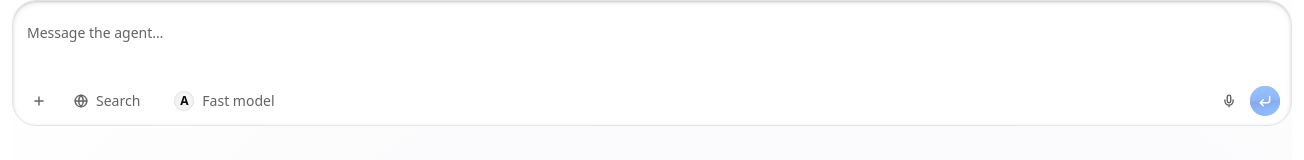
Test: WorkspaceComposer — @ sources, / commands, skills and effort › offers no @ picker when the transport cannot take sources
The image size is (1304, 160).
Click the text box labelled "Message": [652, 47] box [13,15,1291,79]
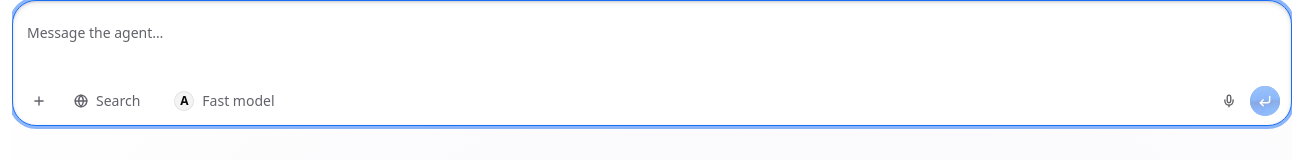
Type keys "@"
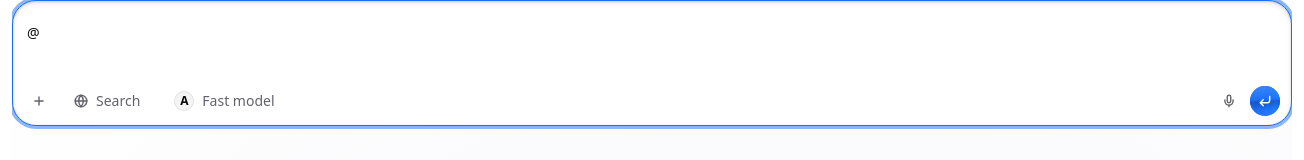
Check: the text box named "Message" holds "@", box [13,15,1291,79]
